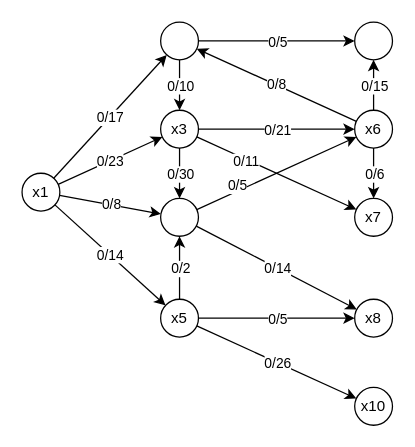
The diagram is 415 pixels wide and 447 high, and some of its shapes have lost their labels. The centre of each missing label's shape, as x and y in pixels:
"x12" belongs at point 372,40.
"x2" belongs at point 178,40.
"x4" belongs at point 178,216.
